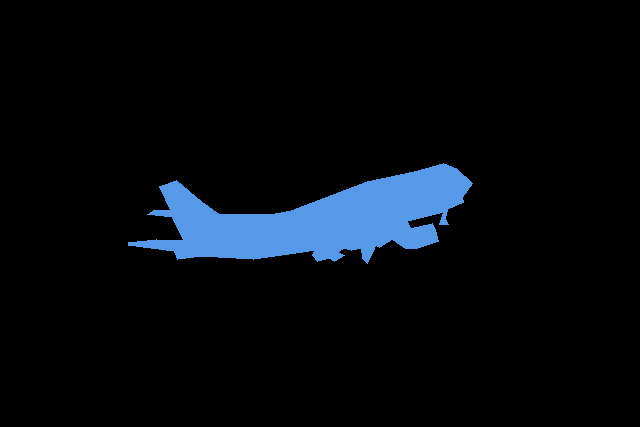Airplane: (128, 163, 473, 263)
